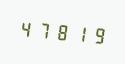eight: (52, 19, 68, 44)
four: (18, 16, 34, 41)
nine: (86, 22, 102, 47)
one: (69, 20, 85, 45)
seven: (35, 17, 51, 42)
